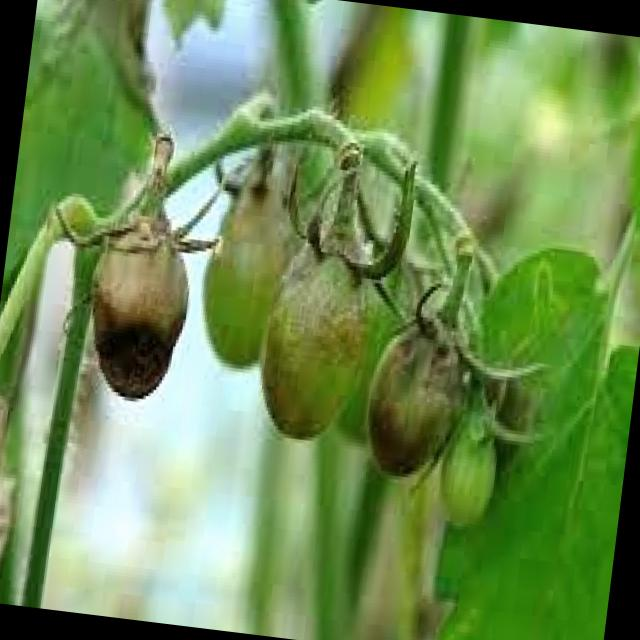Rotten_Tomato: (246, 204, 392, 451), (357, 290, 494, 502), (72, 202, 196, 416)
